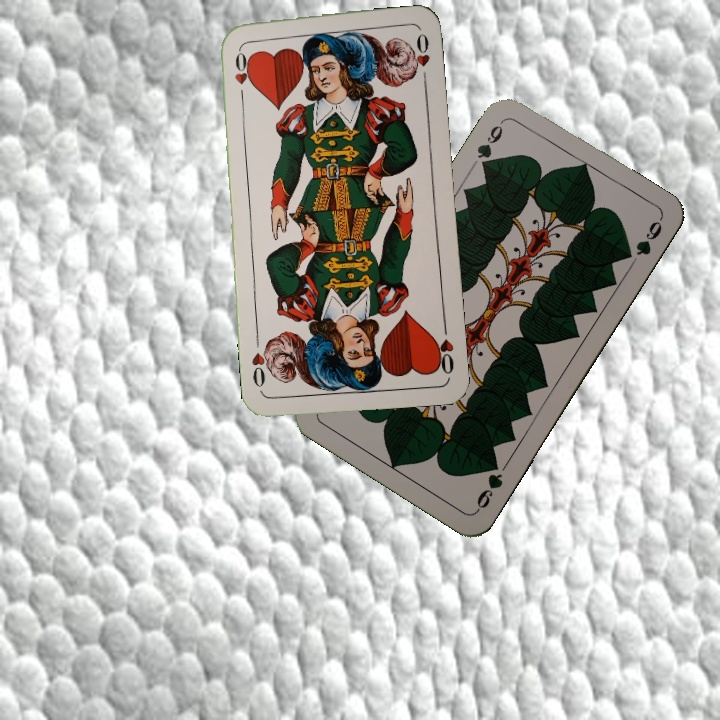G9: (472, 116, 507, 174), (472, 456, 506, 515)
HO: (430, 319, 457, 377), (231, 44, 251, 103)
